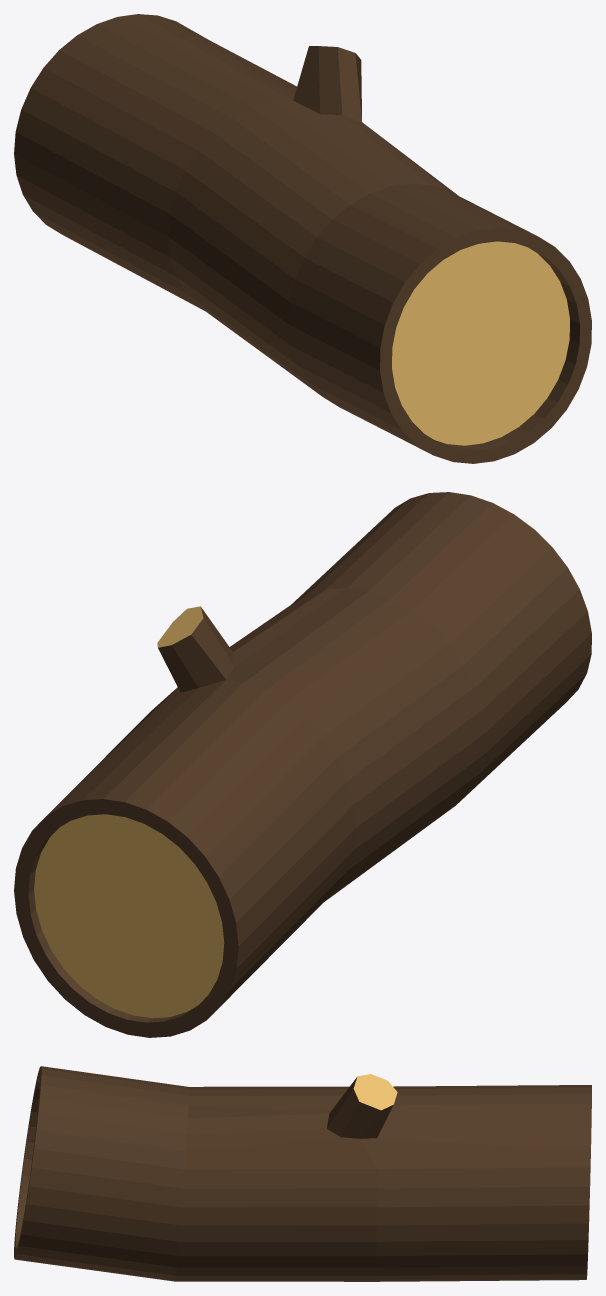
File: Log1COLOUR.glb
3 renders of one model, top to bottom at view 1: azimuth 30°, elevation 25°; view 2: azimuth 150°, elevation 25°; view 3: azimuth 270°, elevation 25°, orthographic. The views are drawn at different scales.
Visible parts, largest first — view 1: Cylinder; view 2: Cylinder; view 3: Cylinder.
Boxes of the visible parts, x1,y1,x2,y2 form: Cylinder: (14,14,591,463); Cylinder: (14,492,591,1037); Cylinder: (14,1066,591,1281).
Bounding box in the file's own units: 2.21 × 2.53 × 5.92.
